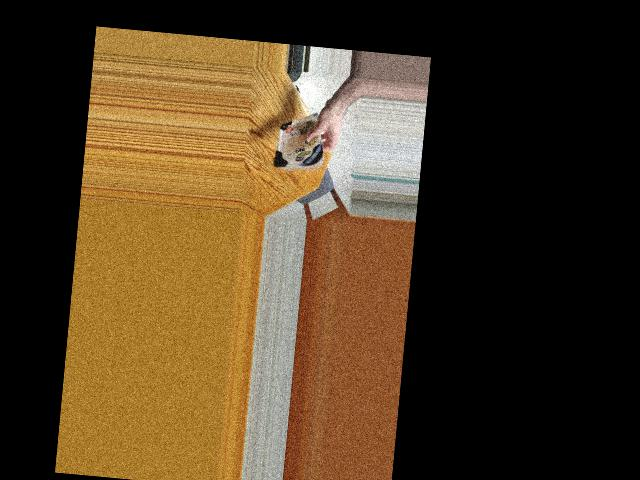cheese: (275, 120, 328, 176)
